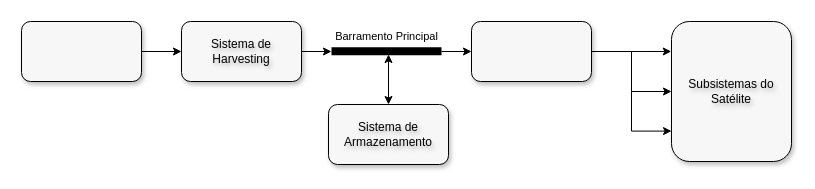
This 815x189 diagram has some shape labels left out. Each missing label, with the centre of its shape:
Painéis Solares: the point at 82,52
Sistema de Distribuição: the point at 532,52
